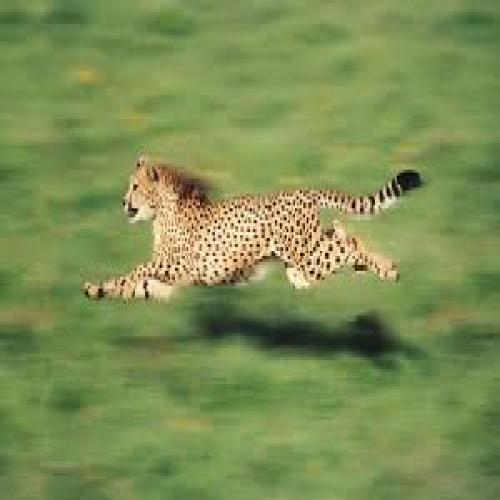cheetah-endangered: (85, 154, 424, 305)
